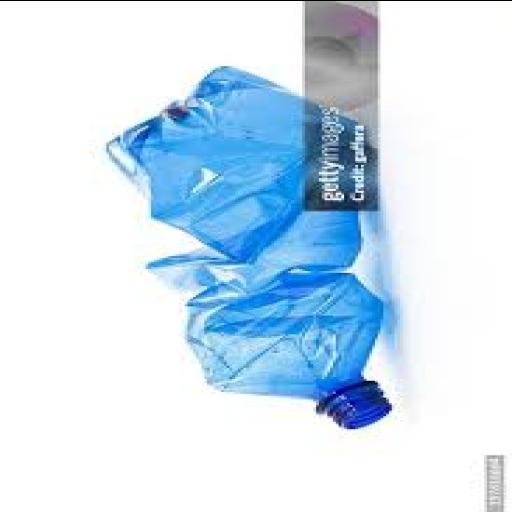blue-bottle: (106, 67, 389, 428)
